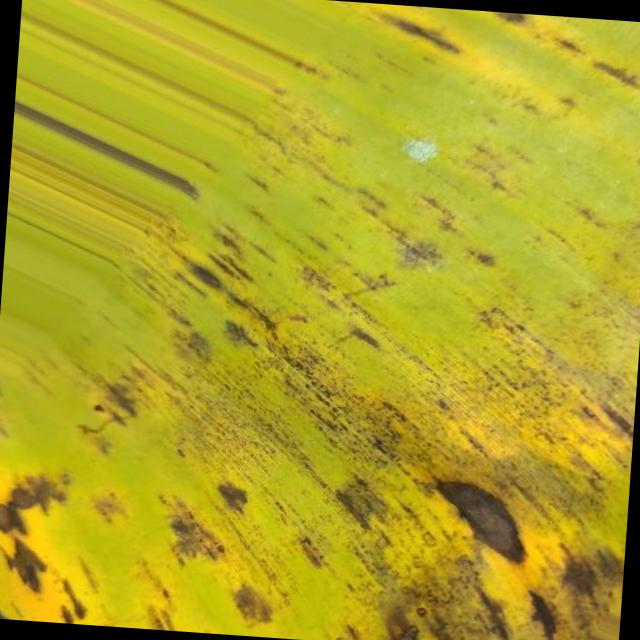Banana_Black_Sigatoka: (150, 324, 606, 580), (254, 75, 600, 301), (196, 532, 623, 640), (0, 401, 127, 626)
